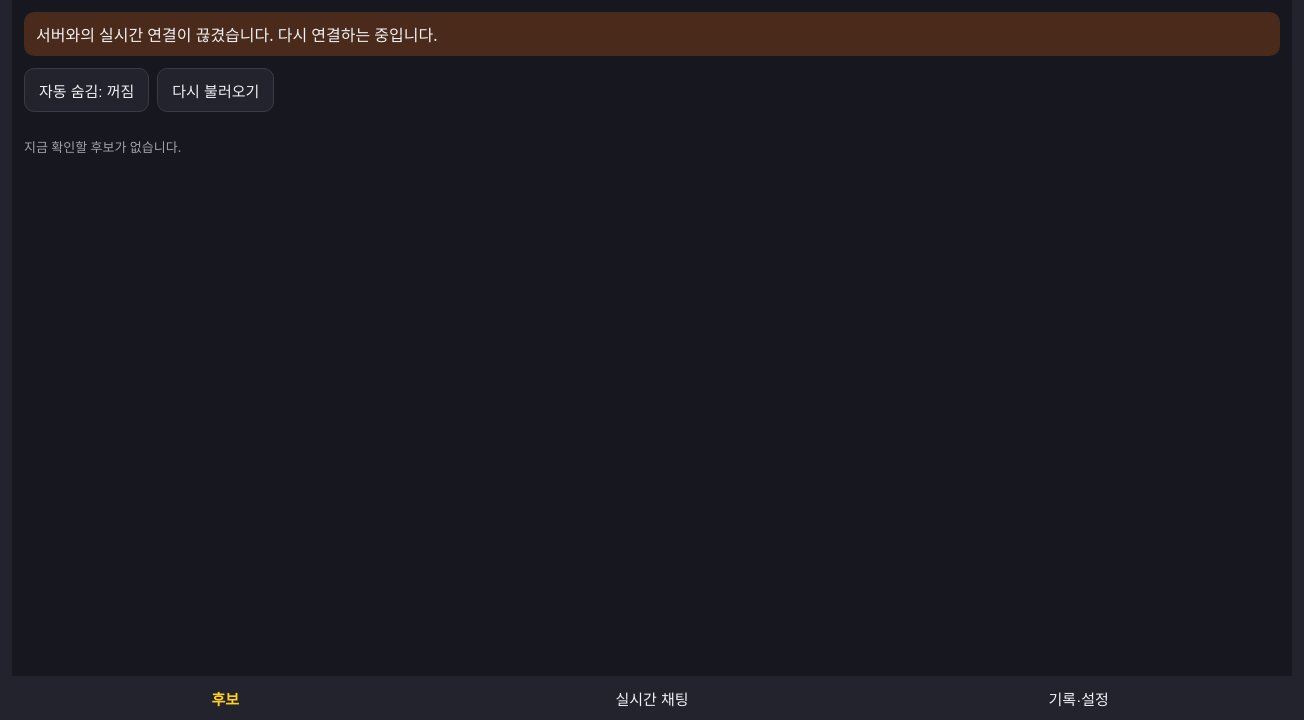
Test: App 자동 숨김 스위치 응답 반영(K17) › 실시간이 끊긴 동안 켜기가 성공하면 응답 값을 바로 반영해, 다음 누름은 끄기를 보낸다
This screenshot has width=1304, height=720.
Click the button "자동 숨김: 꺼짐".
click(87, 90)  # box [24, 68, 149, 112]
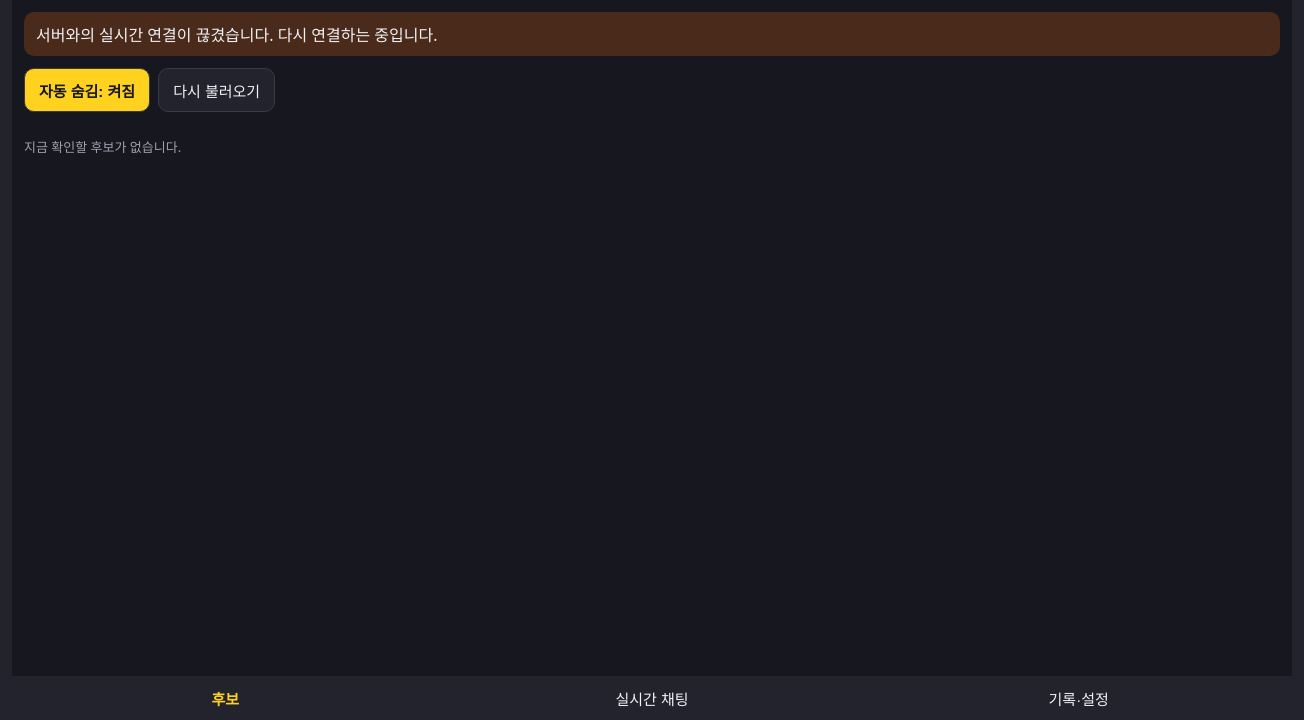
Click the button "자동 숨김: 켜짐".
click(87, 90)  # box [24, 68, 150, 112]
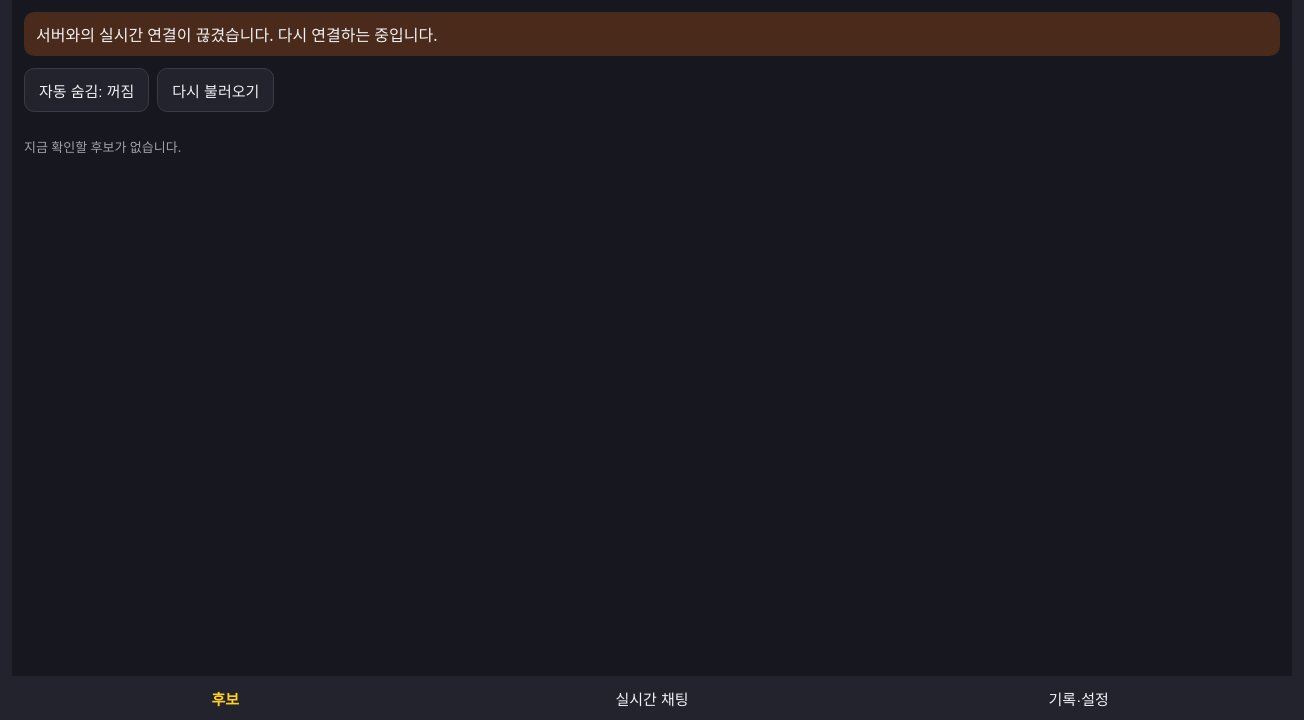
Expected: the button "자동 숨김: 꺼짐" is shown, [24, 68, 149, 112]
